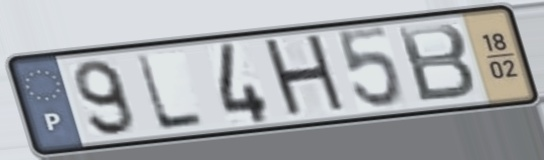4: (216, 39, 273, 127)
5: (333, 24, 407, 114)
9: (69, 58, 139, 137)
B: (393, 21, 480, 106)
H: (259, 30, 353, 123)
L: (132, 52, 209, 133)
